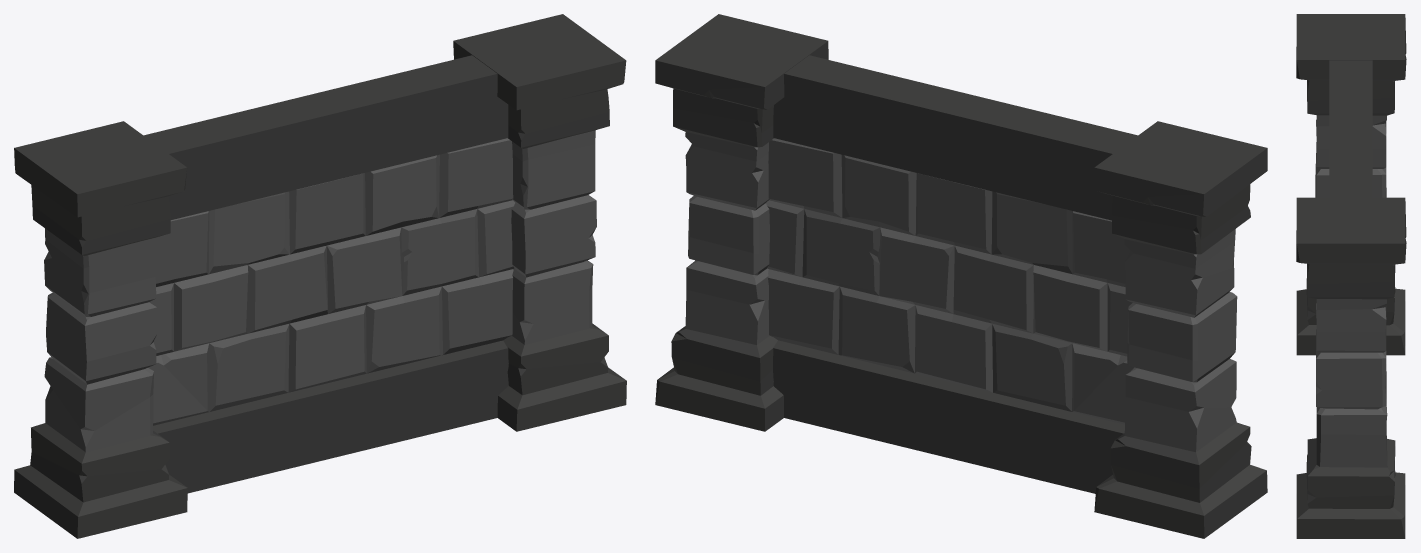
File: wall.fbx
3 renders of one model, left to right at view 1: azimuth 30°, elevation 25°; view 2: azimuth 150°, elevation 25°; view 3: azimuth 270°, elevation 25°, orthographic. The views are drawn at different scales.
Visible parts, largest first — view 1: wall.006; view 2: wall.006; view 3: wall.006.
Part boxes in pixels (bbox=[...]): wall.006: bbox=[14, 14, 626, 538]; wall.006: bbox=[655, 14, 1267, 538]; wall.006: bbox=[1296, 14, 1406, 538].
Bounding box in the file's own units: 7 × 1.41 × 4.19.
Materials: 1 (1 with a texture image).
